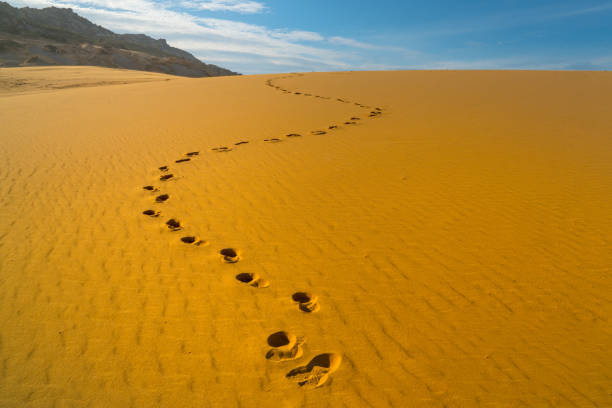human_footprint: (286, 353, 341, 388), (266, 331, 304, 361), (292, 292, 319, 312), (236, 273, 269, 287), (219, 248, 239, 262), (180, 236, 207, 245), (166, 218, 181, 230), (143, 209, 160, 216), (155, 194, 169, 202), (211, 146, 232, 151), (160, 173, 173, 180), (143, 185, 157, 191), (264, 138, 281, 142), (185, 151, 198, 156), (311, 130, 326, 134), (175, 158, 190, 162), (158, 165, 168, 171), (234, 141, 248, 145), (286, 133, 300, 136)
